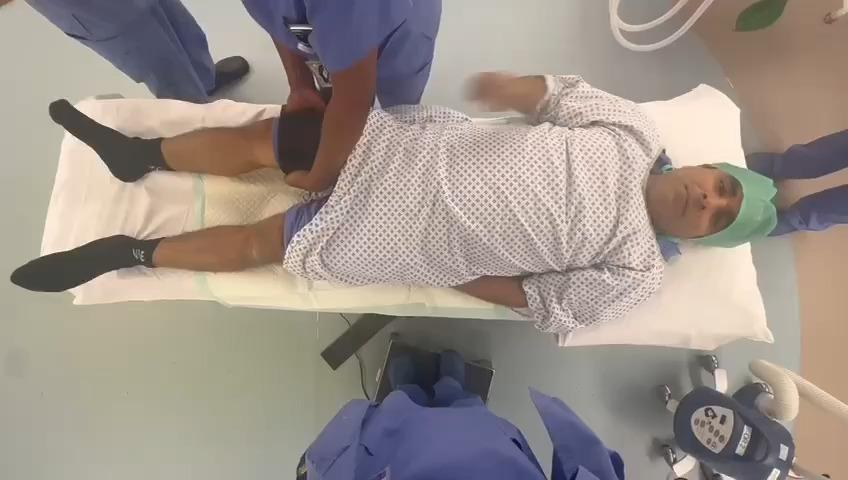patient: (13, 75, 775, 332)
tourniquet: (278, 111, 323, 172)
